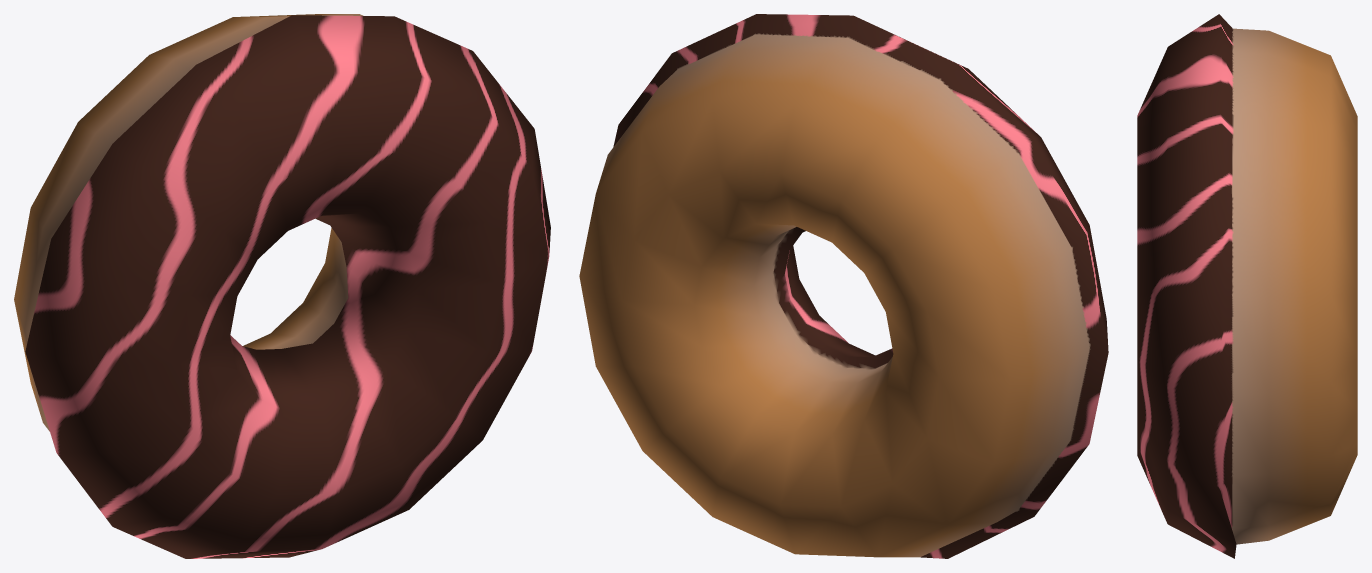
The model's file is DonutComplete.fbx.
The picture shows the model from 3 angles, left to right: view 1: azimuth 30°, elevation 25°; view 2: azimuth 150°, elevation 25°; view 3: azimuth 270°, elevation 25°; orthographic projection. The views are drawn at different scales.
Parts seen in each view (by area): view 1: Torus.003; view 2: Torus.003; view 3: Torus.003.
Part boxes in pixels (bbox=[...]): Torus.003: bbox=[14, 14, 550, 558]; Torus.003: bbox=[579, 14, 1108, 558]; Torus.003: bbox=[1137, 14, 1357, 558].
Bounding box in the file's own units: 4.99 × 4.96 × 2.
